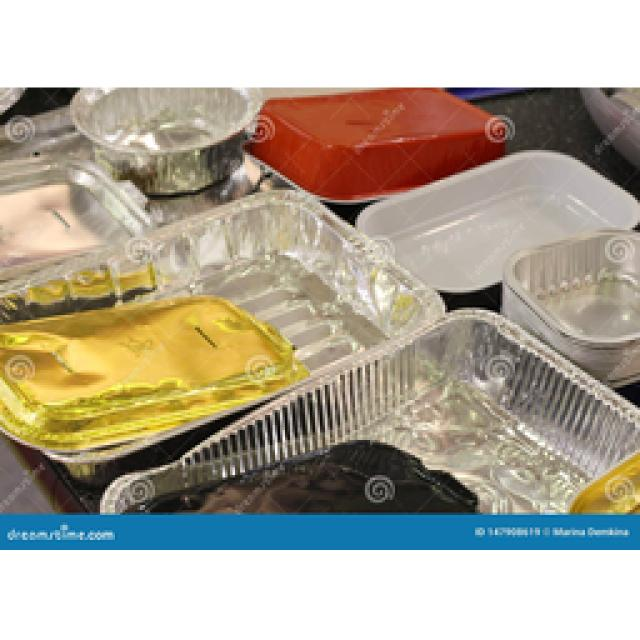alumunium: (0, 88, 638, 510)
